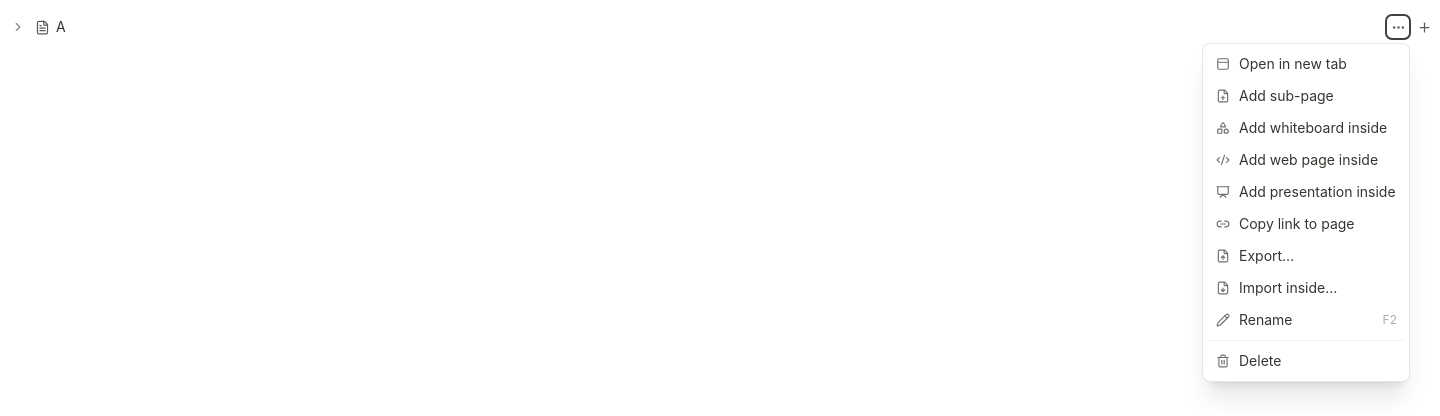
Test: sidebar page menu › clicking ••• again closes the menu
This screenshot has width=1440, height=416.
Earlier steps of the test are not shown.
Check: the menu is shown, box [1202,43,1410,382]
Step 1. Click the button named "More actions" → point(1398, 27), box [1386,15,1410,39]
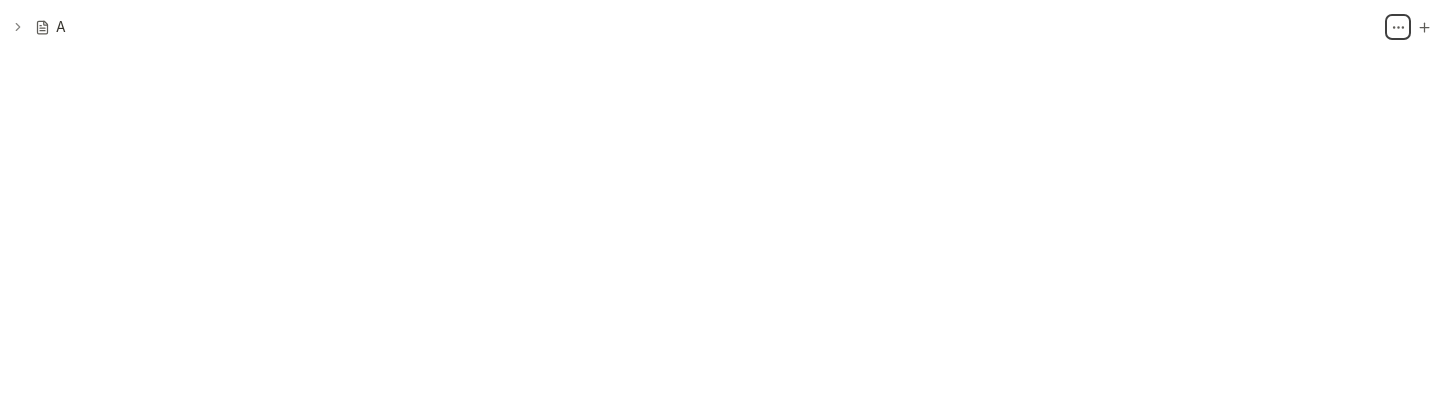
Check: the menu is gone
Step 2. Click the button named "More actions" → point(1398, 27), box [1386,15,1410,39]
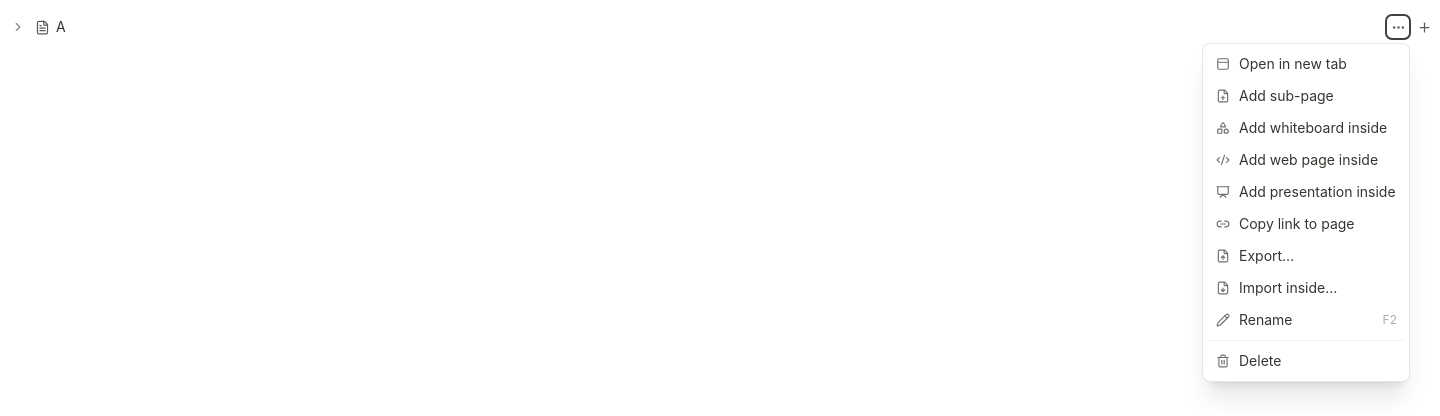
Step 3. Press Escape
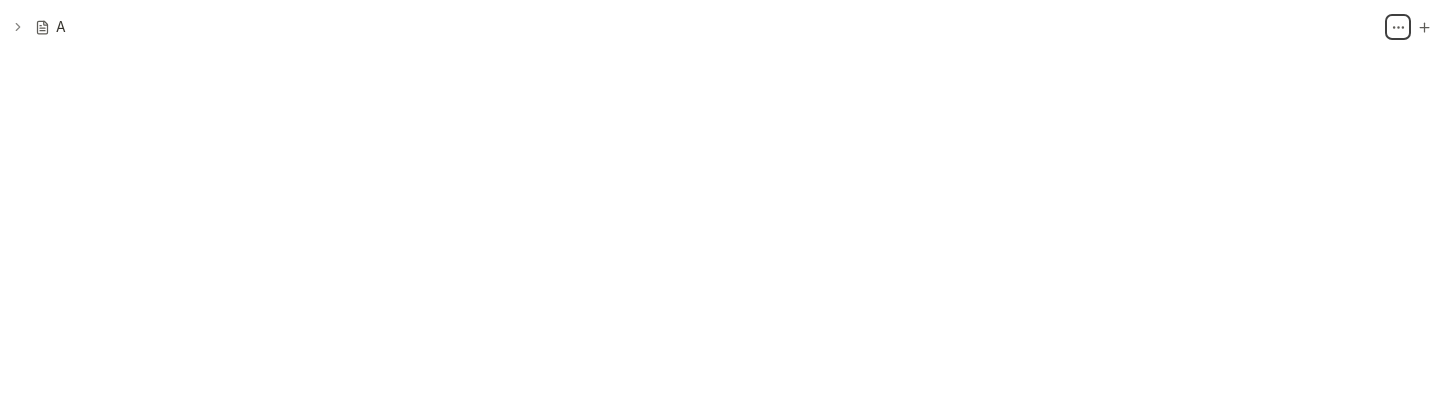
Check: the menu is gone
